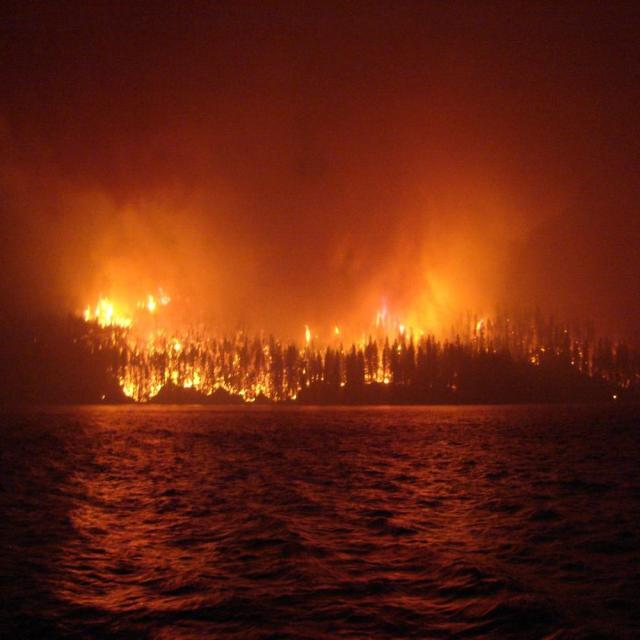Fire: (82, 289, 129, 327), (220, 372, 274, 401), (173, 366, 220, 396), (356, 354, 394, 388), (114, 364, 143, 402), (370, 296, 401, 331), (136, 289, 180, 313), (142, 365, 166, 396)
Smoke: (30, 18, 620, 296)
